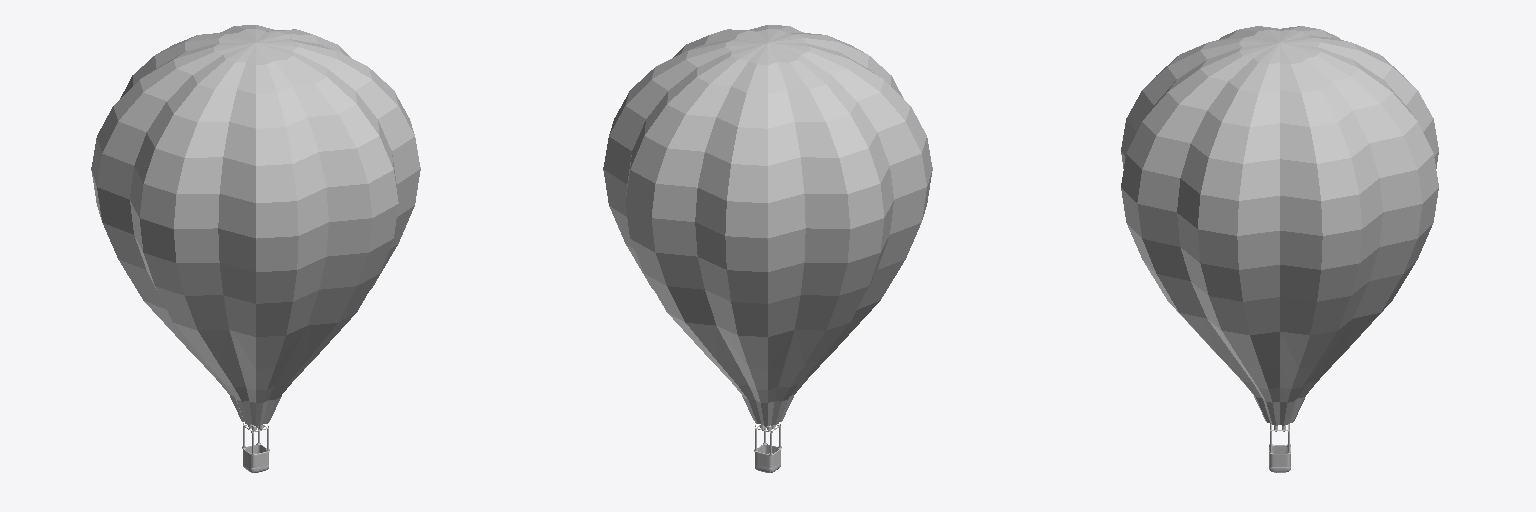
File: balloon.obj
The picture shows the model from 3 angles: view 1: azimuth 30°, elevation 25°; view 2: azimuth 150°, elevation 25°; view 3: azimuth 270°, elevation 25°; orthographic projection.
Parts seen in each view (by area): view 1: Circle; view 2: Circle; view 3: Circle.
Boxes of the visible parts, box(x1,y1,x2,y2) form: Circle: box(91, 25, 420, 472); Circle: box(603, 25, 932, 472); Circle: box(1121, 26, 1438, 472).
Bounding box in the file's own units: 22.42 × 33.16 × 22.42.